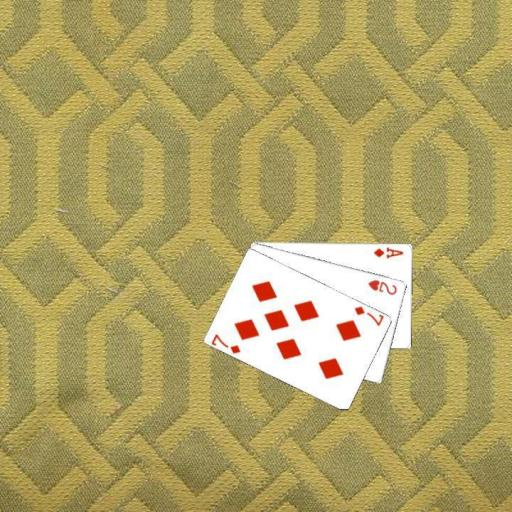card-corner: (351, 303, 385, 327), (209, 331, 243, 355), (365, 276, 399, 296), (370, 244, 404, 259)
